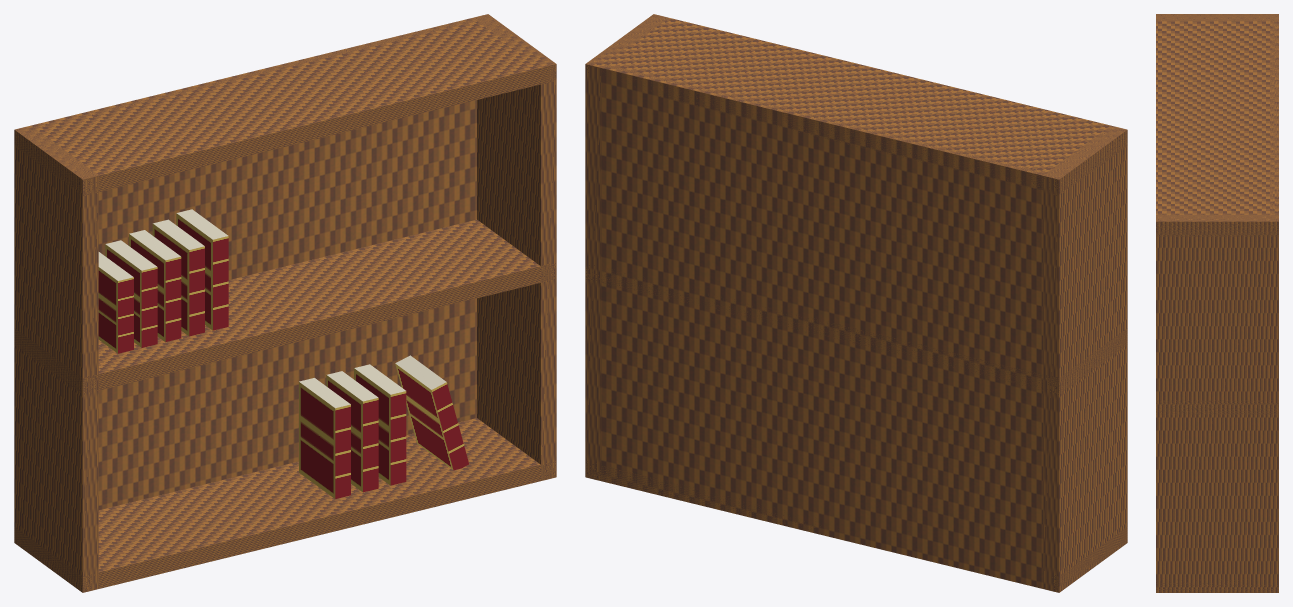
File: bookshelf.glb
3 views of the same model, side by side, from view 1: azimuth 30°, elevation 25°; view 2: azimuth 150°, elevation 25°; view 3: azimuth 270°, elevation 25° (orthographic). The views are drawn at different scales.
Visible parts, largest first — view 1: Shelf, Book_Textures, Book_Leaning, Book_Physics, Book_Cameras, Book_Pixels, Book_Algorithms, Book_Light, Book_Meshes, Book_Shaders; view 2: Shelf; view 3: Shelf.
Boxes of the visible parts, bbox=[...] form: Shelf: bbox=[14, 14, 556, 592]; Book_Textures: bbox=[299, 378, 350, 498]; Book_Leaning: bbox=[395, 355, 469, 470]; Book_Physics: bbox=[354, 364, 406, 485]; Book_Cameras: bbox=[326, 371, 378, 492]; Book_Pixels: bbox=[176, 209, 228, 330]; Book_Algorithms: bbox=[98, 252, 133, 353]; Book_Light: bbox=[152, 219, 204, 336]; Book_Meshes: bbox=[129, 230, 181, 342]; Book_Shaders: bbox=[105, 240, 157, 347]; Shelf: bbox=[585, 14, 1127, 592]; Shelf: bbox=[1156, 14, 1278, 592].
Bounding box in the file's own units: 1.2 × 1 × 0.3.
Materials: 4 (4 with a texture image).
